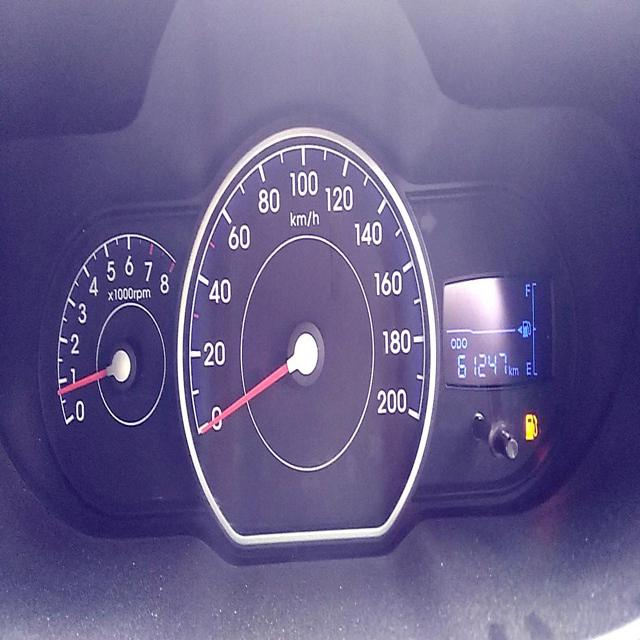odometer: (456, 346, 508, 380)
